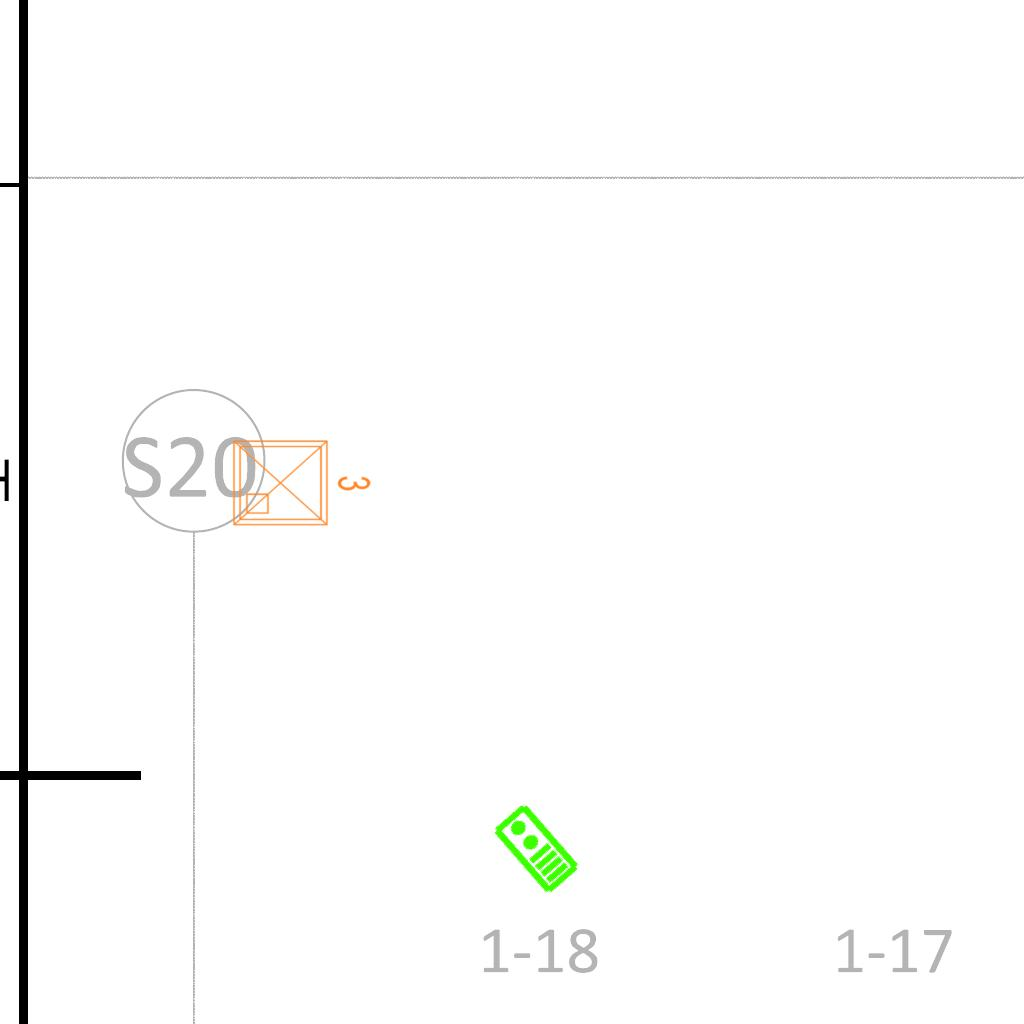Einbaudownlights_LED_Konferenzraeume: (226, 429, 376, 533)
Gegensprechanlage_mit_Video: (488, 800, 583, 898)
